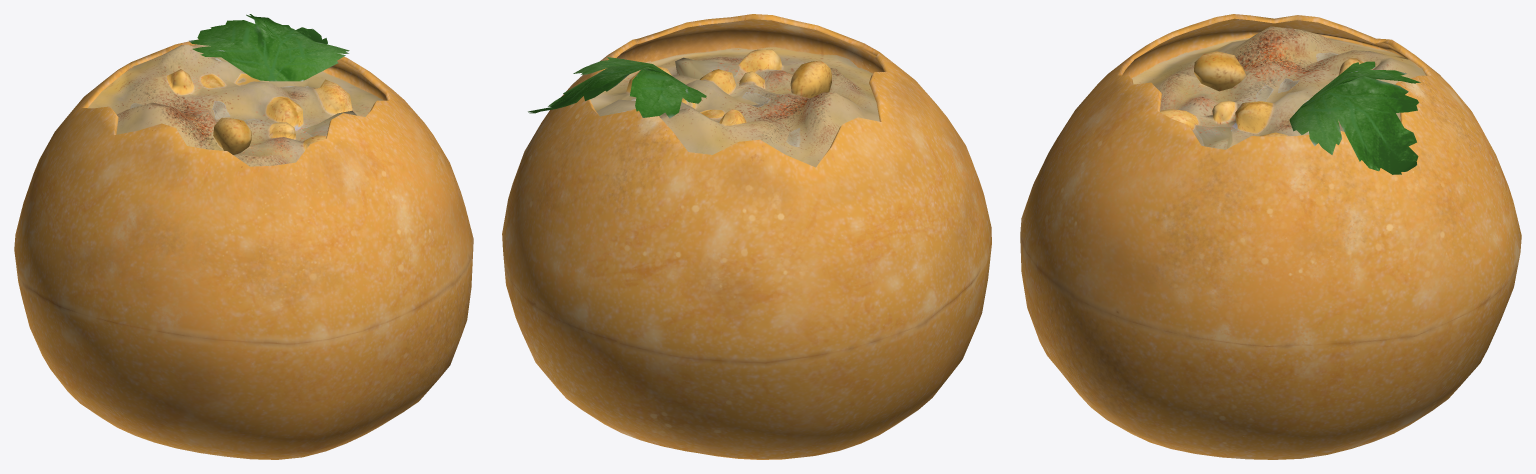
File: Pani_Puri_FBX.fbx
The picture shows the model from 3 angles, left to right: view 1: azimuth 30°, elevation 25°; view 2: azimuth 150°, elevation 25°; view 3: azimuth 270°, elevation 25°; orthographic projection. The views are drawn at different scales.
Parts seen in each view (by area): view 1: Pani_Puri; view 2: Pani_Puri; view 3: Pani_Puri.
Boxes of the visible parts, x1,y1,x2,y2 form: Pani_Puri: (14, 14, 473, 459); Pani_Puri: (502, 14, 991, 459); Pani_Puri: (1020, 14, 1521, 459).
Bounding box in the file's own units: 7.47 × 6.11 × 7.63.
